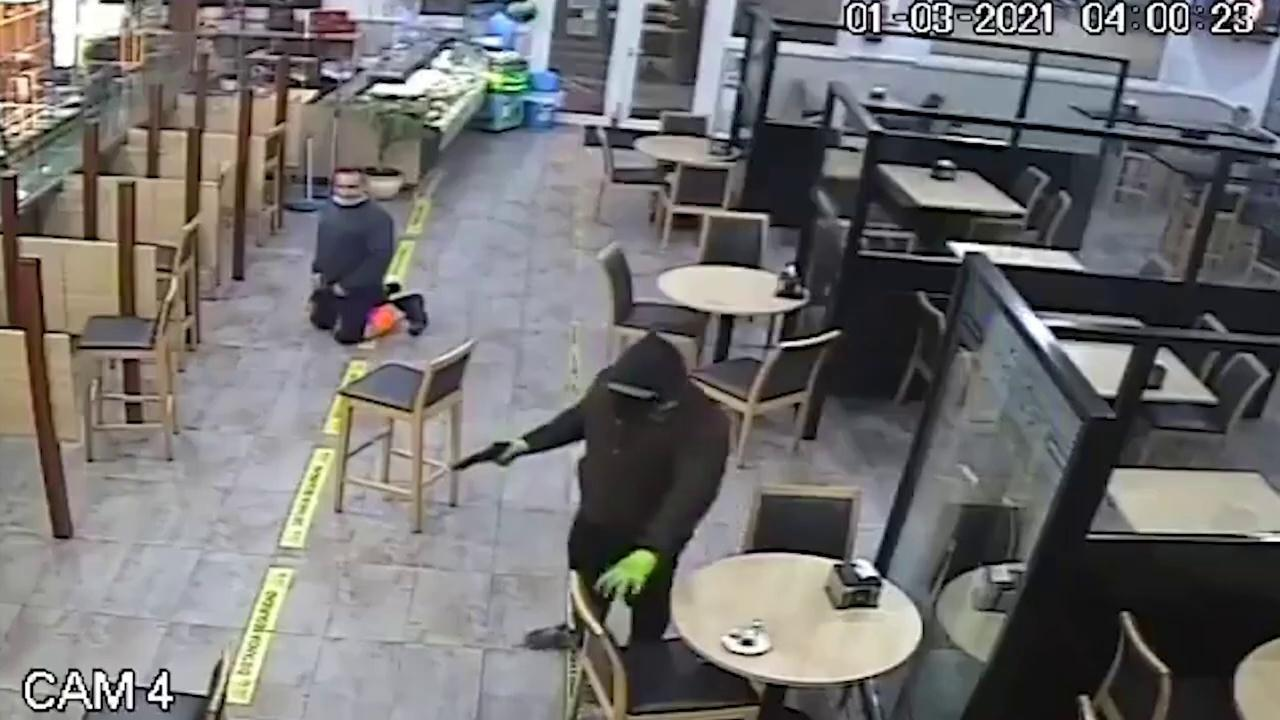Guns perspective: (415, 420, 544, 497)
